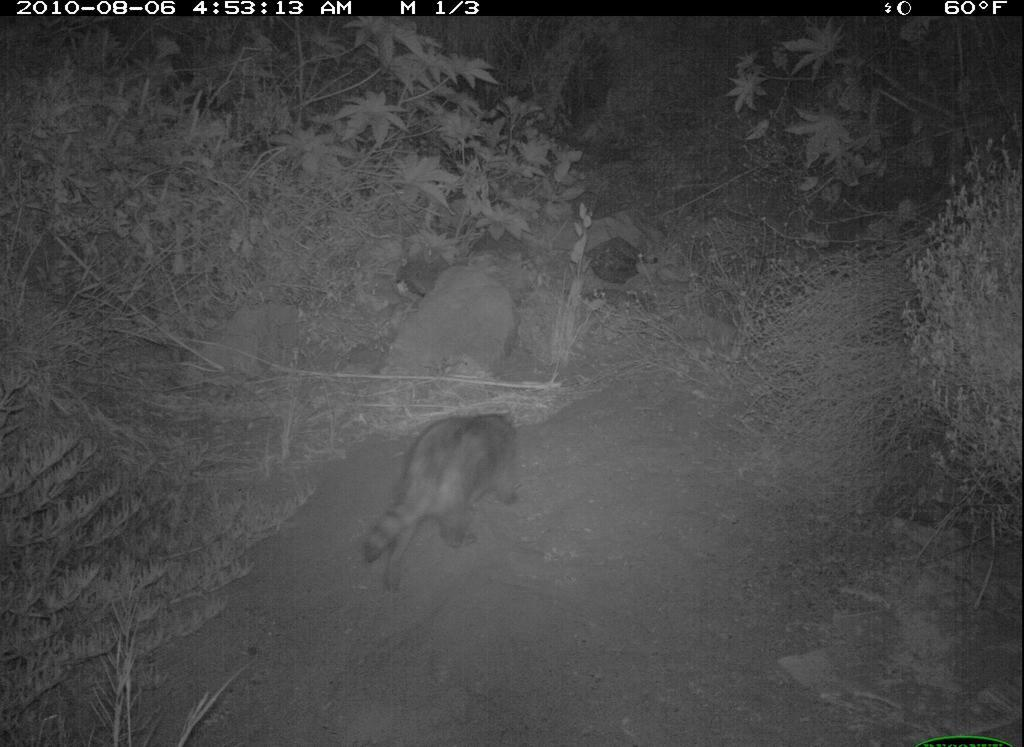raccoon: (355, 402, 536, 602)
